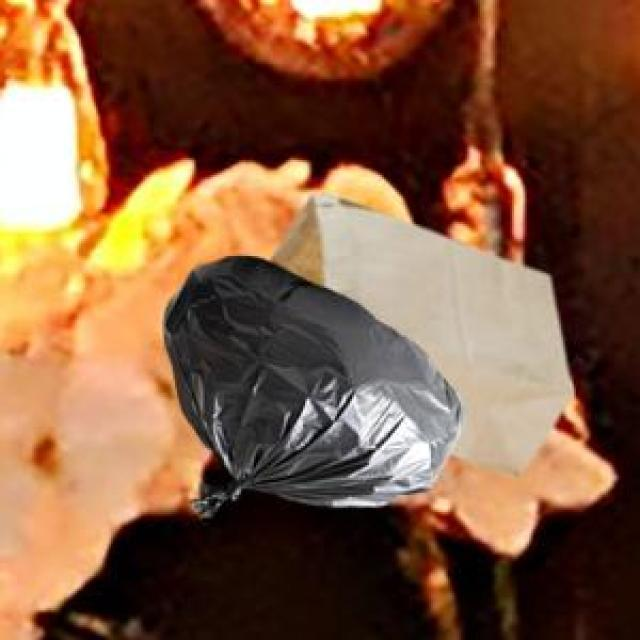miscellaneous trash: (160, 252, 461, 514)
paper: (267, 190, 568, 472)
